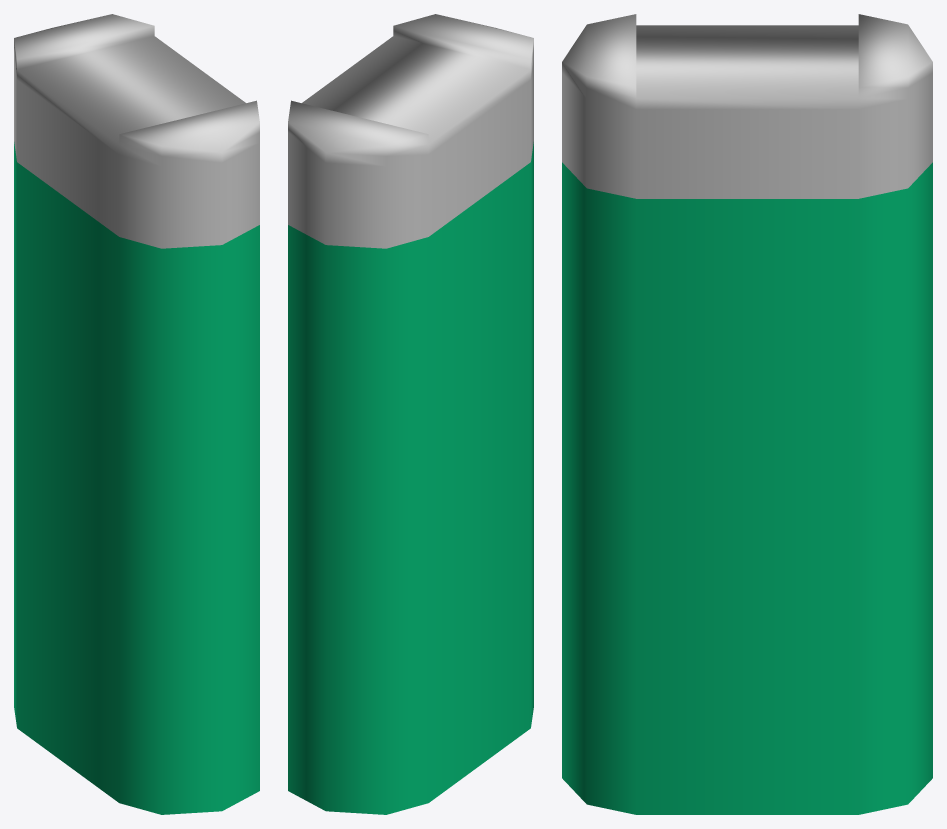
Rendered from speedhighwah_bldng_1.fbx.
3 views of the same model, side by side, from view 1: azimuth 30°, elevation 25°; view 2: azimuth 150°, elevation 25°; view 3: azimuth 270°, elevation 25° (orthographic). The views are drawn at different scales.
Visible parts, largest first — view 1: 0148_object_00089E98; view 2: 0148_object_00089E98; view 3: 0148_object_00089E98.
Part boxes in pixels (bbox=[...]): 0148_object_00089E98: bbox=[14, 14, 259, 814]; 0148_object_00089E98: bbox=[288, 14, 533, 814]; 0148_object_00089E98: bbox=[562, 14, 932, 814].
Size of the model in its own units: 7000 by 32500 by 15000.
